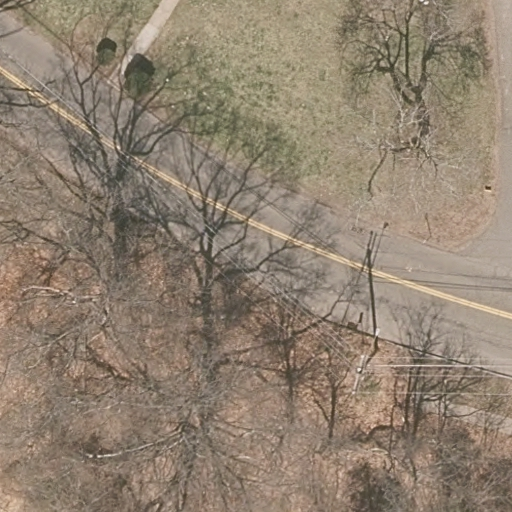DT: (350, 326, 381, 397)
